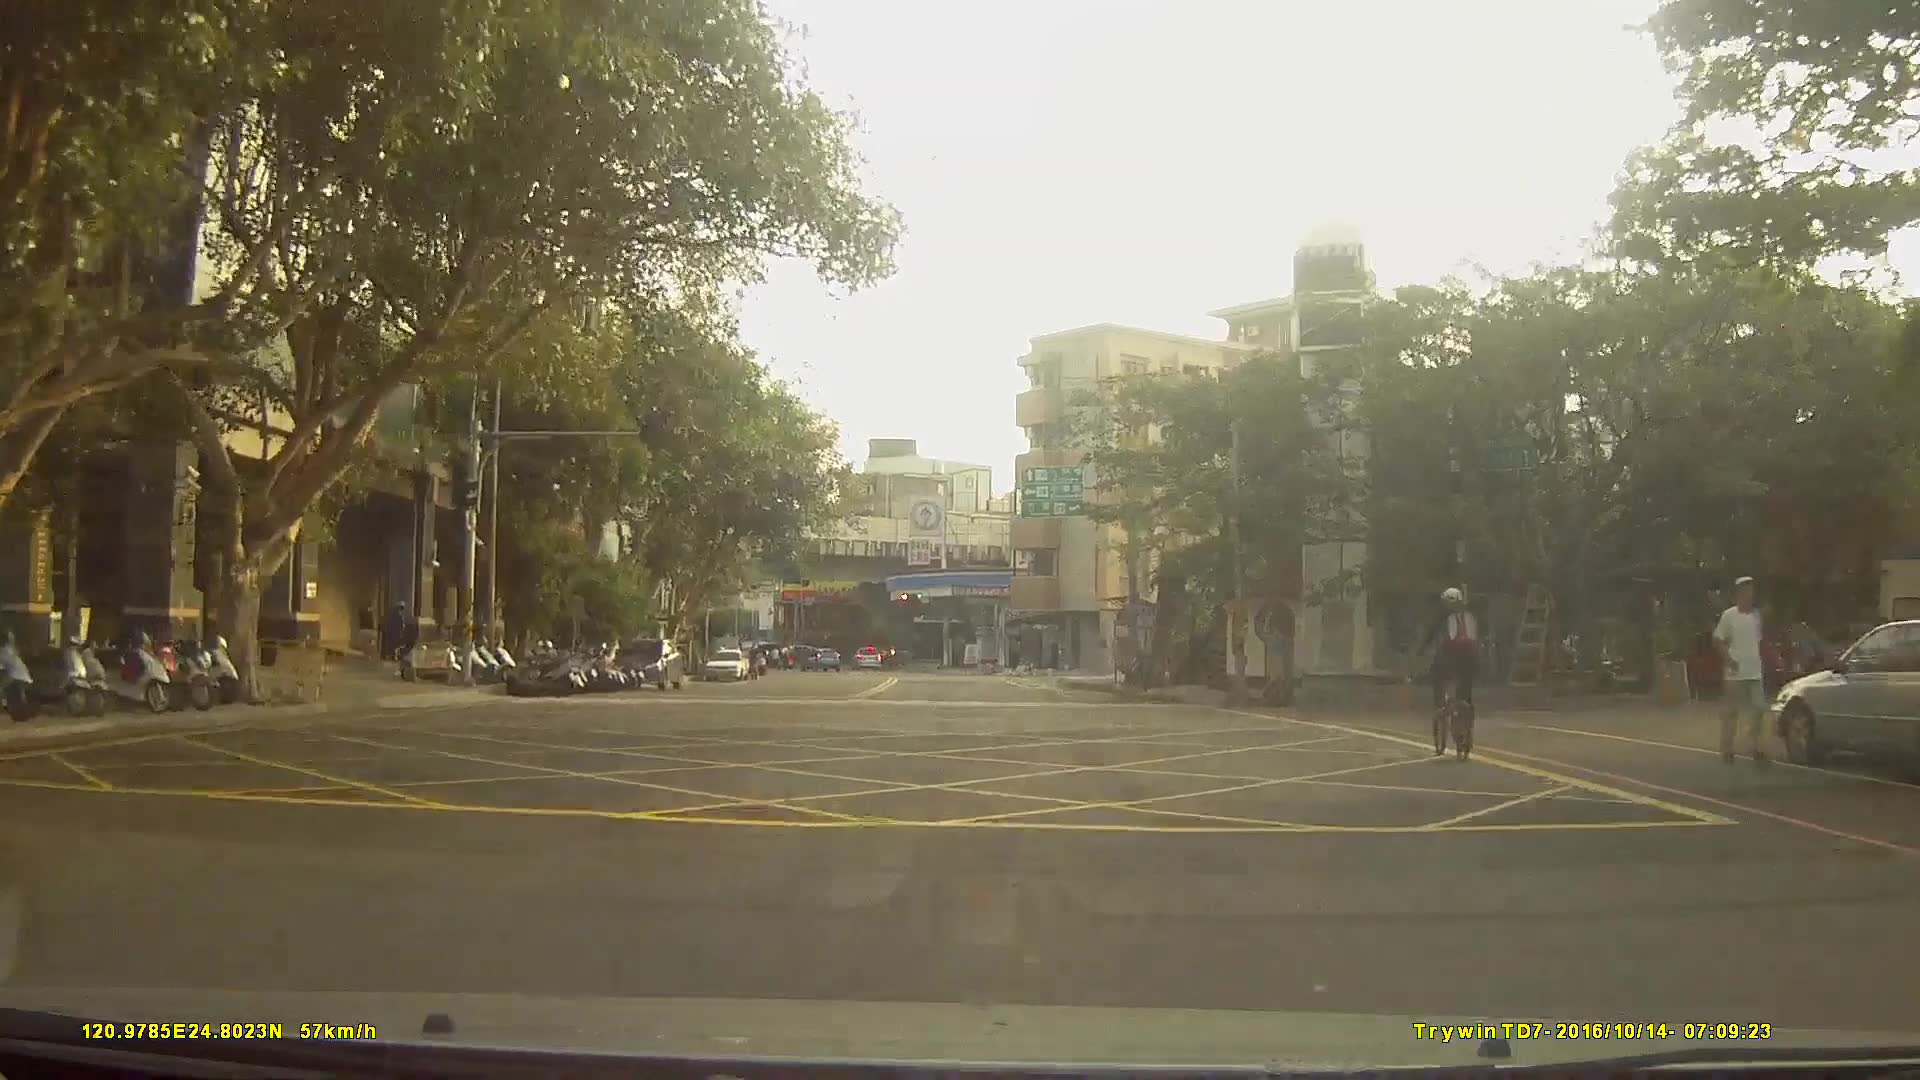pedestrian: (1710, 577, 1780, 770), (356, 600, 378, 662)
rider: (1419, 583, 1480, 762)
vehicle: (1772, 617, 1920, 775), (612, 638, 682, 692), (701, 648, 746, 683), (799, 646, 839, 672), (850, 642, 884, 669)
